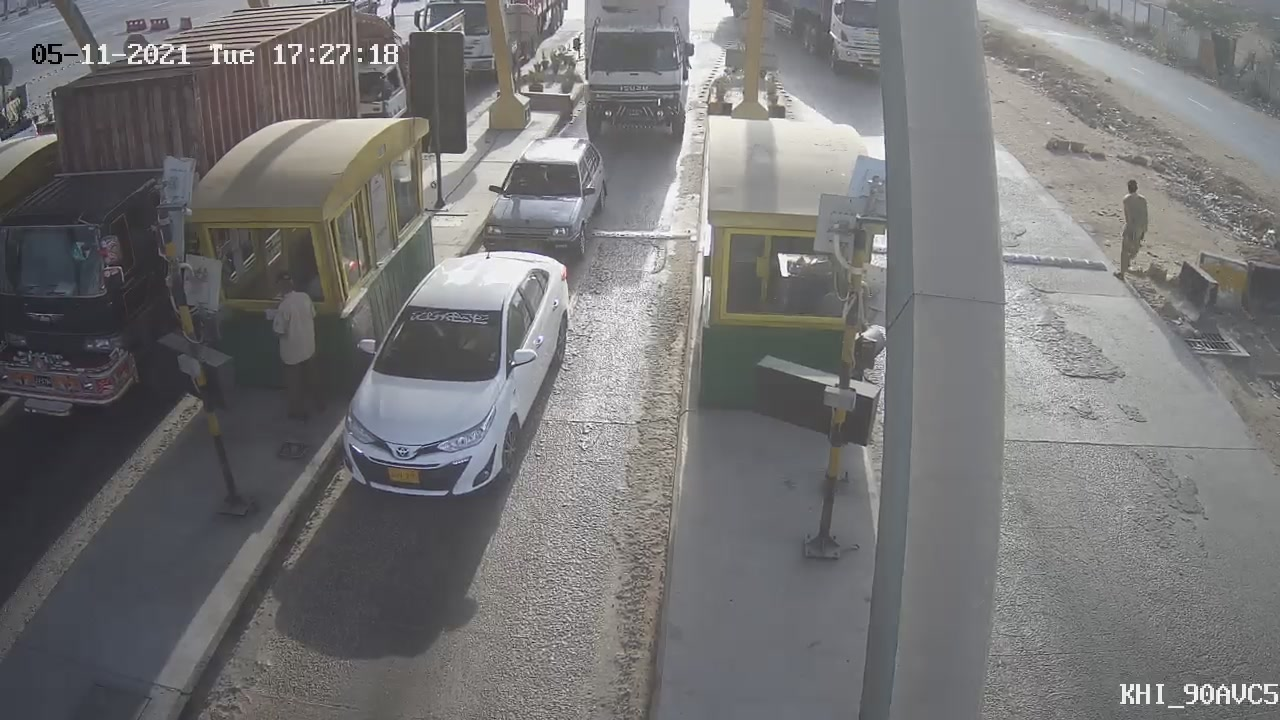F1: (322, 230, 591, 535), (463, 121, 633, 286)
